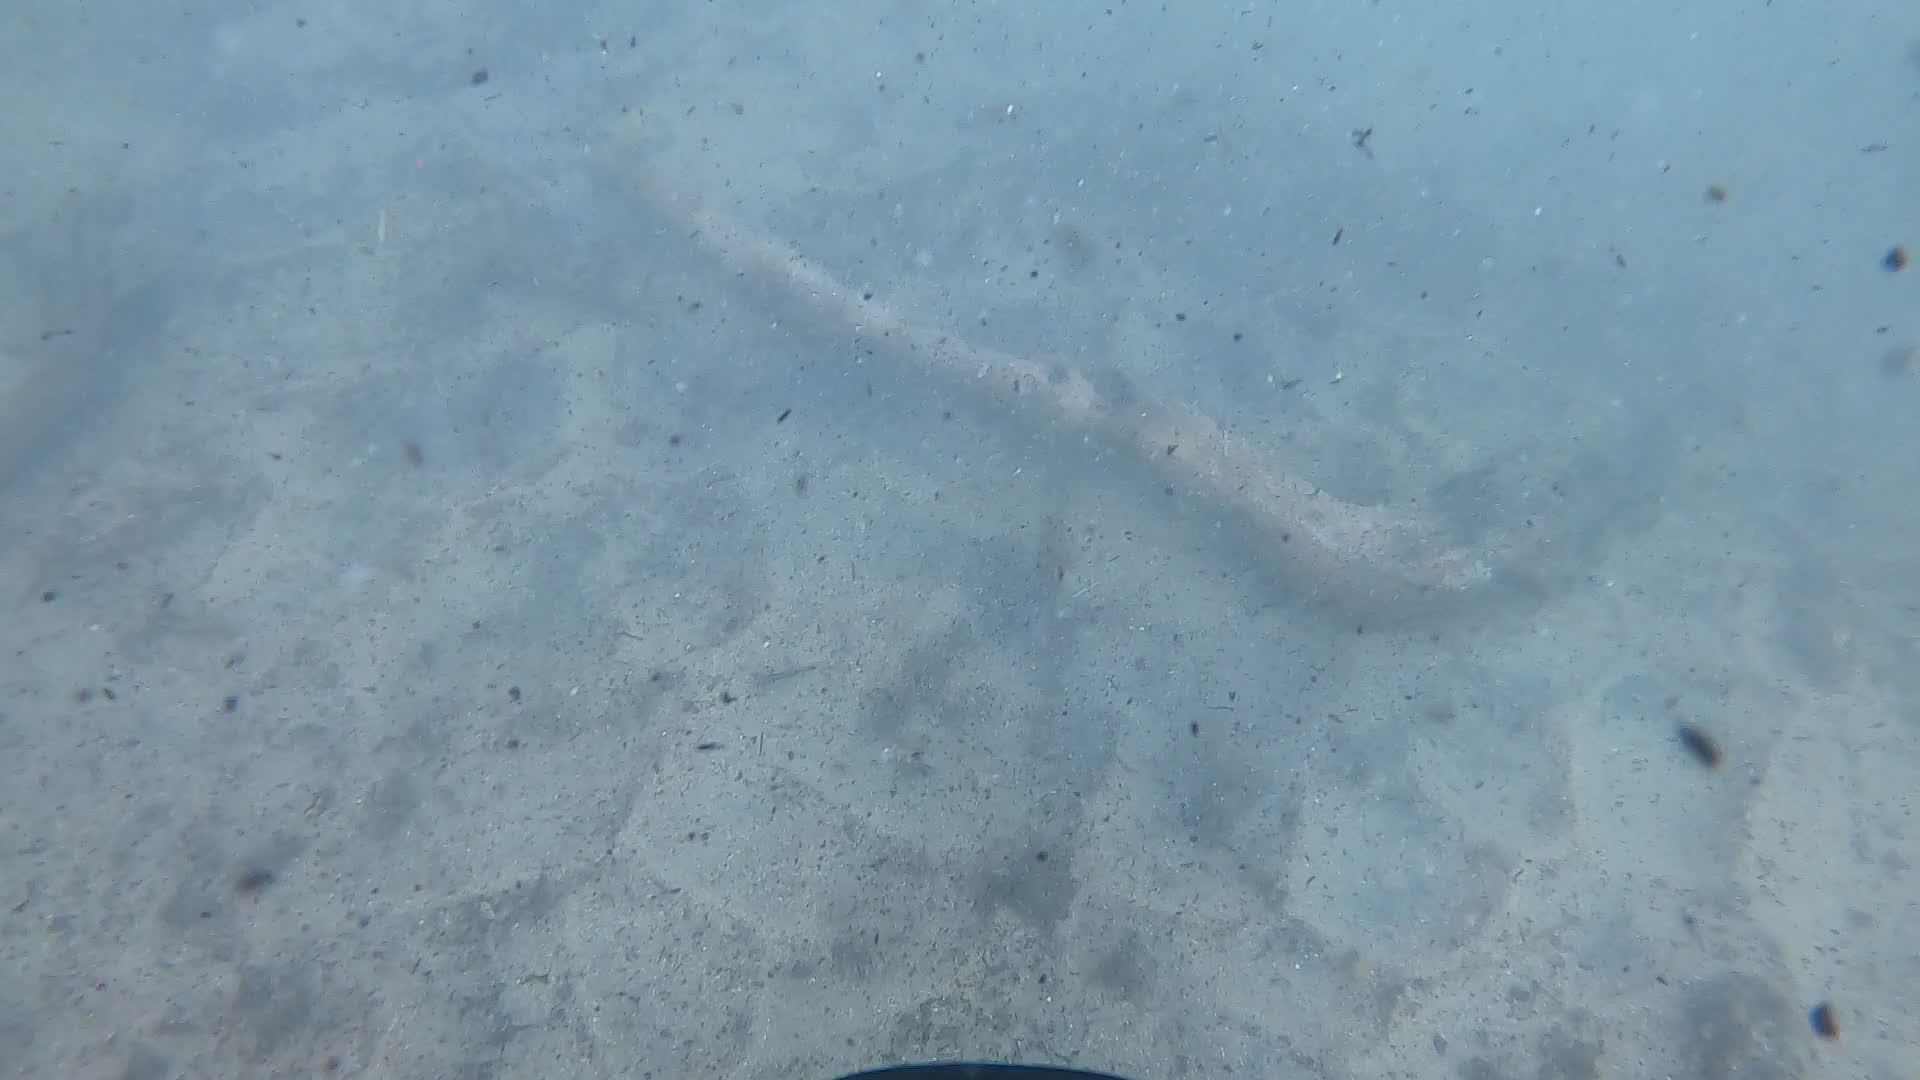wood: (574, 132, 1741, 618)
